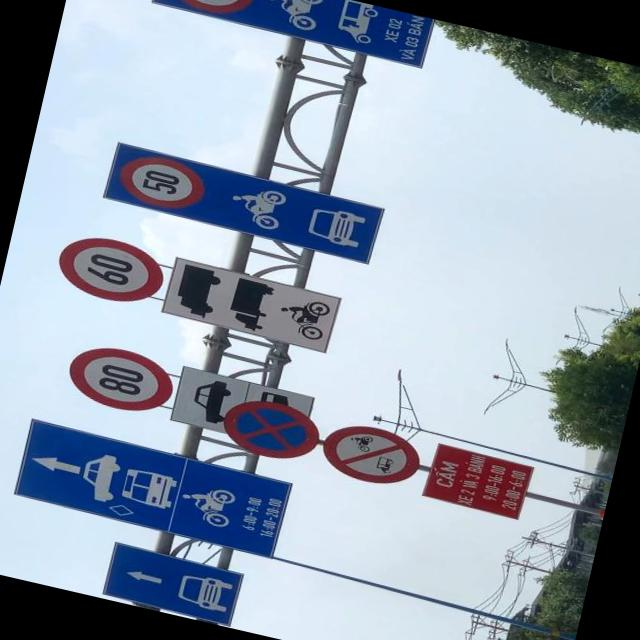P-104: (317, 417, 423, 491)
P-127: (62, 332, 182, 418), (50, 228, 168, 309)
P-130: (220, 394, 322, 467)
